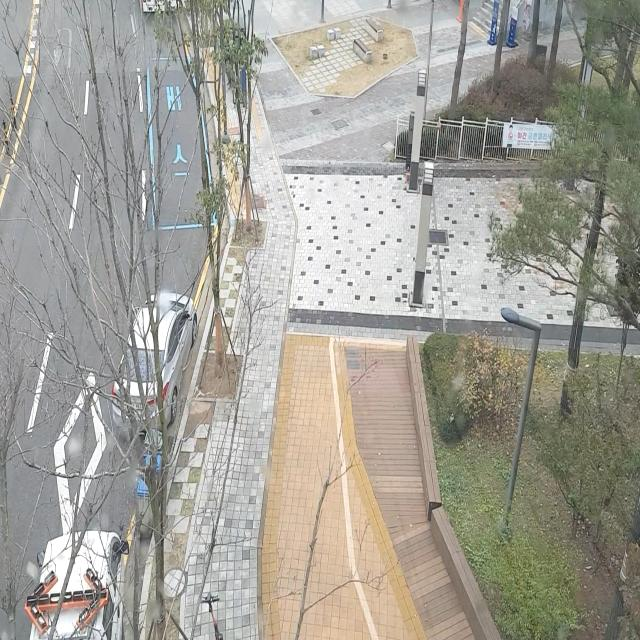Car: (88, 277, 210, 472)
Truck: (13, 506, 132, 640)
